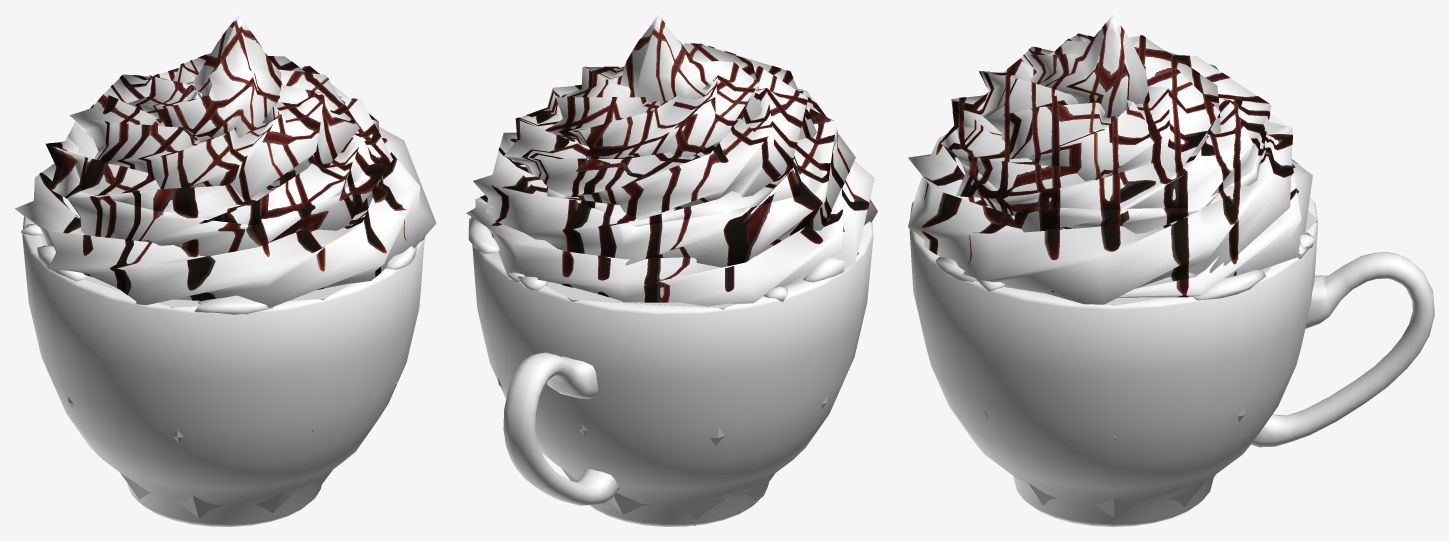
The model's file is CupCoffee.fbx.
3 renders of one model, left to right at view 1: azimuth 30°, elevation 25°; view 2: azimuth 150°, elevation 25°; view 3: azimuth 270°, elevation 25°, orthographic. The views are drawn at different scales.
Visible parts, largest first — view 1: CupCoffee, CupCoffee_Cream, CupCoffee_CreamTop, CupCoffee_Col; view 2: CupCoffee, CupCoffee_Cream, CupCoffee_CreamTop, CupCoffee_Col; view 3: CupCoffee, CupCoffee_Cream, CupCoffee_CreamTop, CupCoffee_Col.
Boxes of the visible parts, x1=… form: CupCoffee: x1=22, y1=216, x2=424, y2=526; CupCoffee_Cream: x1=15, y1=14, x2=436, y2=314; CupCoffee_CreamTop: x1=39, y1=20, x2=406, y2=300; CupCoffee_Col: x1=41, y1=235, x2=416, y2=518; CupCoffee: x1=472, y1=221, x2=873, y2=526; CupCoffee_Cream: x1=466, y1=14, x2=877, y2=306; CupCoffee_CreamTop: x1=475, y1=19, x2=869, y2=302; CupCoffee_Col: x1=488, y1=252, x2=827, y2=525; CupCoffee: x1=909, y1=197, x2=1434, y2=526; CupCoffee_Cream: x1=908, y1=14, x2=1315, y2=304; CupCoffee_CreamTop: x1=921, y1=23, x2=1298, y2=297; CupCoffee_Col: x1=970, y1=210, x2=1317, y2=517.
Size of the model in its own units: 0.0864 by 0.1076 by 0.1081.
